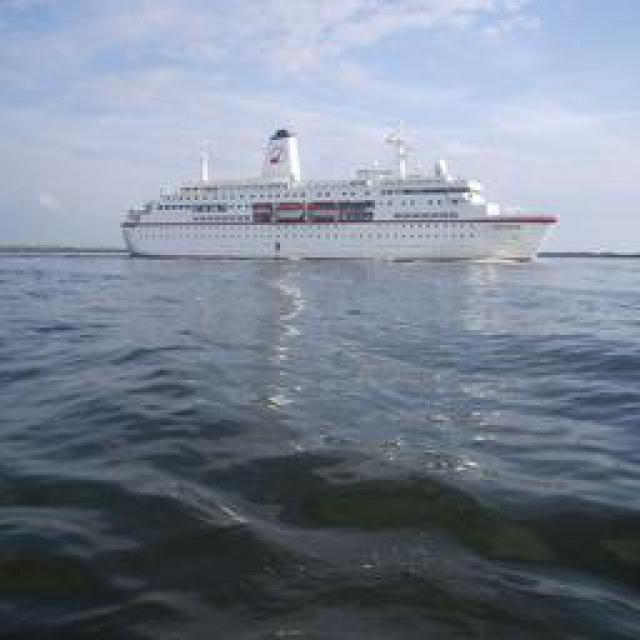Ship: (121, 127, 554, 267)
